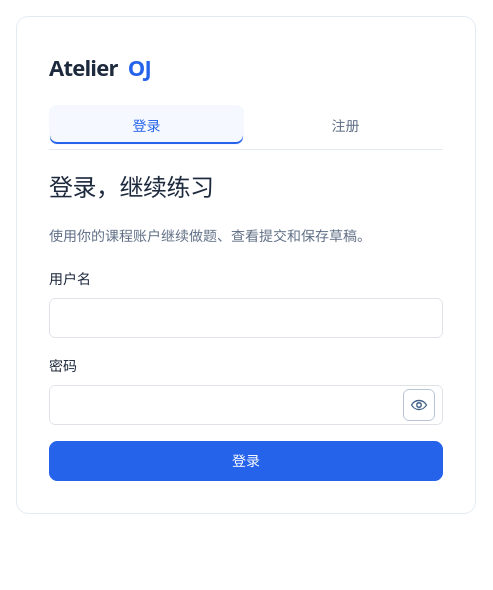
Test: validates login fields before requesting the server and uses one reveal control
The image size is (493, 590).
Type "a b" into the field labelled "用户名" at (246, 318), box [49, 298, 443, 338]
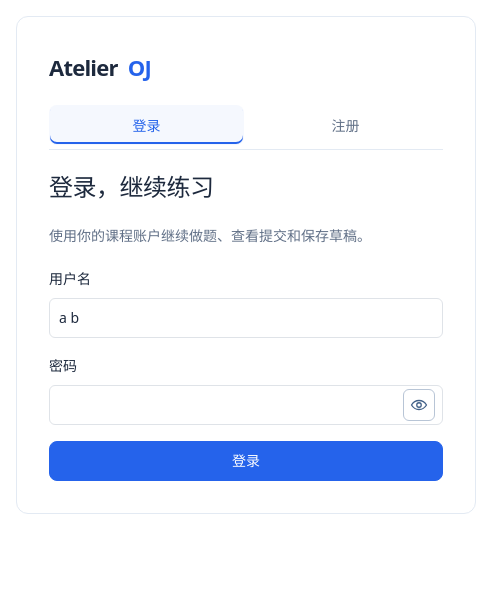
Type "123" into the password field labelled "密码" at (246, 405), box [49, 385, 443, 425]
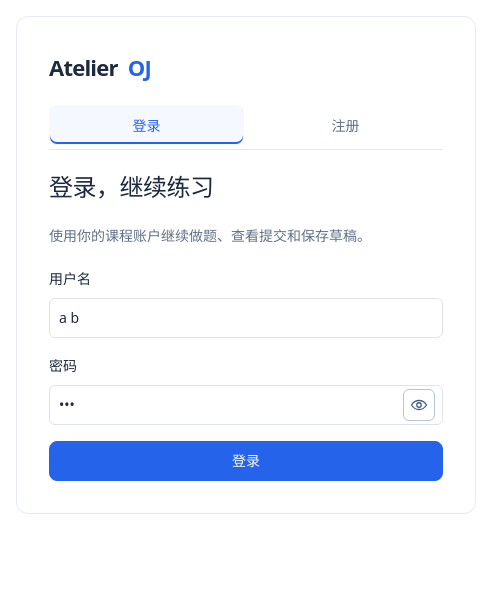
Click the button "登录" at (246, 461), box [49, 441, 443, 481]
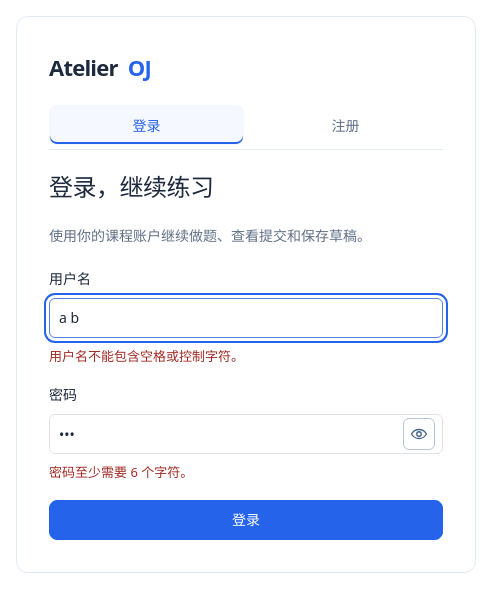
Expected: the number of buttons named "显示密码" is 1, [403, 418, 435, 450]
Result: the text "用户名不能包含空格或控制字符。" is shown at [49, 347, 244, 365]
Result: the text "密码至少需要 6 个字符。" is shown at [49, 463, 193, 481]
